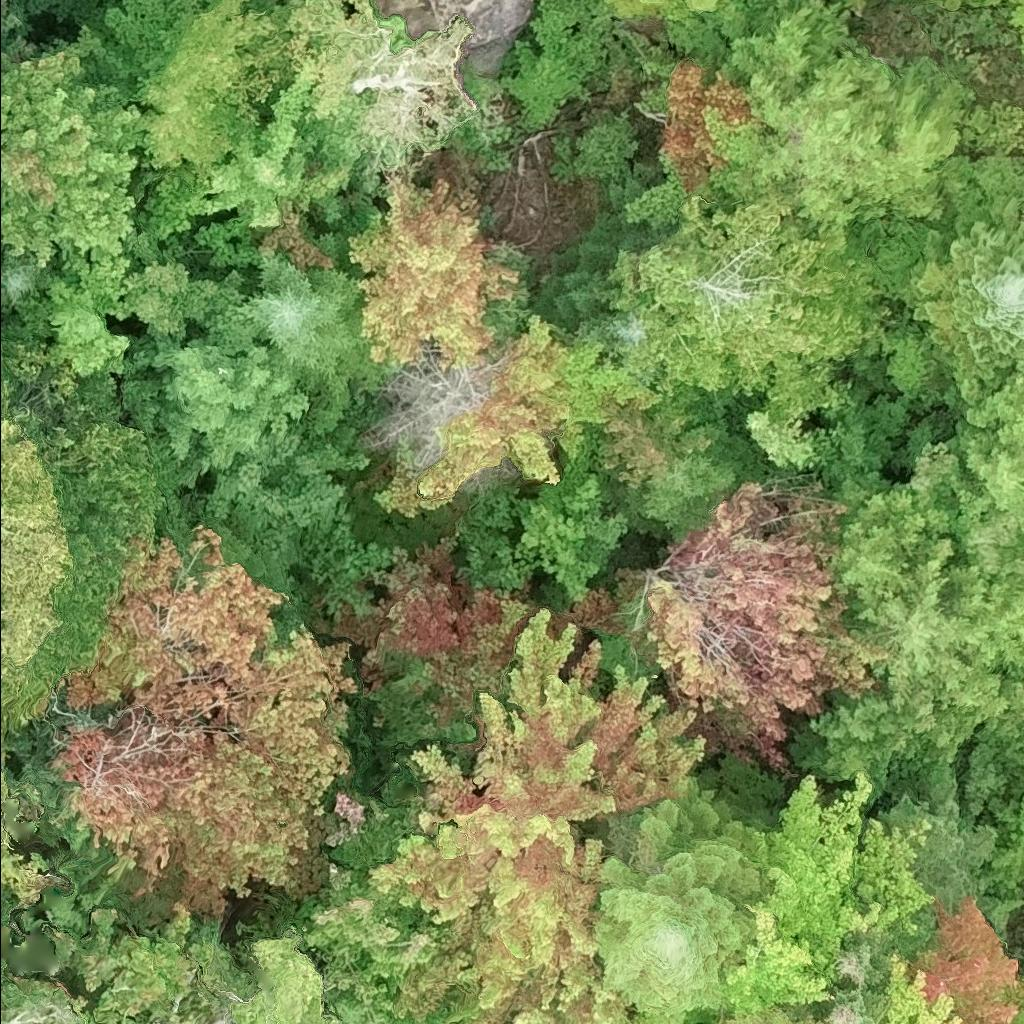crown: (368, 605, 710, 1023), (52, 525, 370, 918), (568, 479, 895, 778), (600, 188, 892, 432), (0, 327, 168, 731), (389, 312, 663, 518), (729, 0, 973, 226), (721, 769, 933, 1015), (595, 770, 777, 1023), (329, 536, 542, 729), (132, 272, 317, 471), (348, 176, 523, 368), (0, 49, 149, 268), (240, 230, 398, 432), (300, 800, 433, 1023), (849, 533, 1007, 712), (440, 457, 632, 601), (133, 0, 282, 184), (201, 53, 349, 230), (902, 193, 1023, 391), (533, 208, 673, 362), (355, 340, 496, 470), (658, 58, 770, 215), (905, 897, 1023, 1023), (32, 246, 142, 379), (236, 919, 341, 1023), (856, 949, 966, 1023), (0, 955, 80, 1023), (959, 372, 1023, 449), (0, 247, 42, 313), (721, 1000, 829, 1023), (0, 748, 20, 870), (606, 0, 665, 17), (930, 0, 1012, 11), (421, 1003, 452, 1023), (681, 0, 720, 13)
